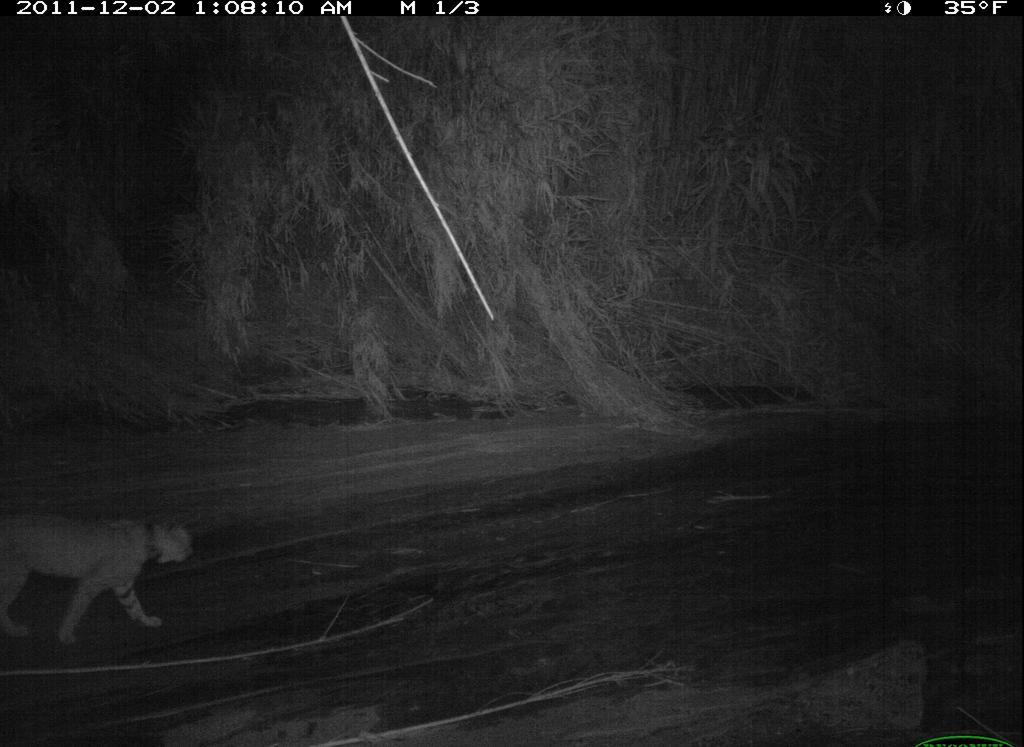bobcat: (1, 511, 195, 647)
